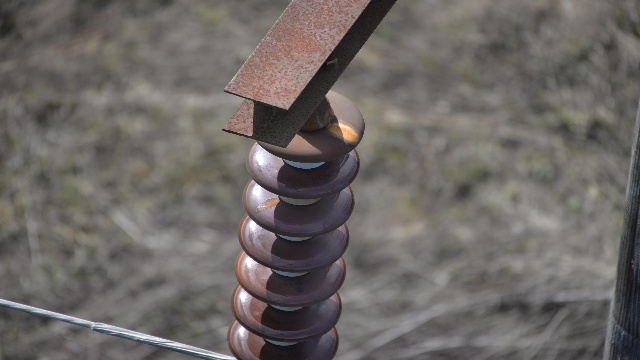insulator_unspecified: (227, 88, 364, 359)
pollution_flashover_local: (327, 119, 359, 145), (252, 195, 282, 212)
